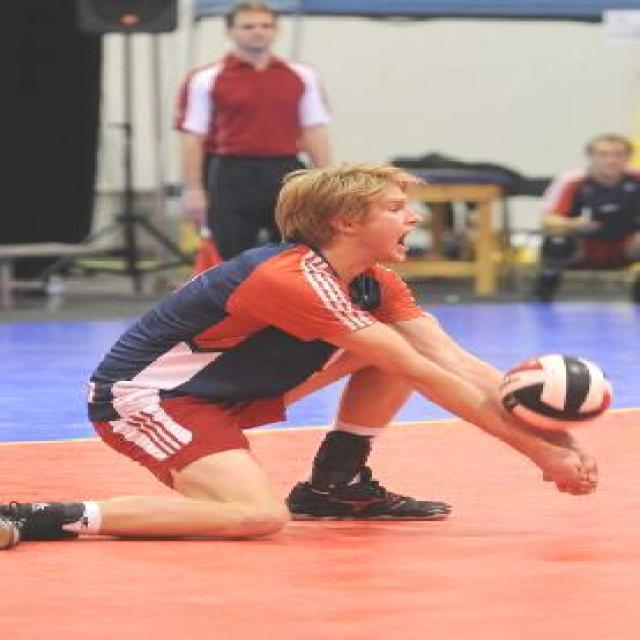volleyball: (501, 352, 614, 430)
